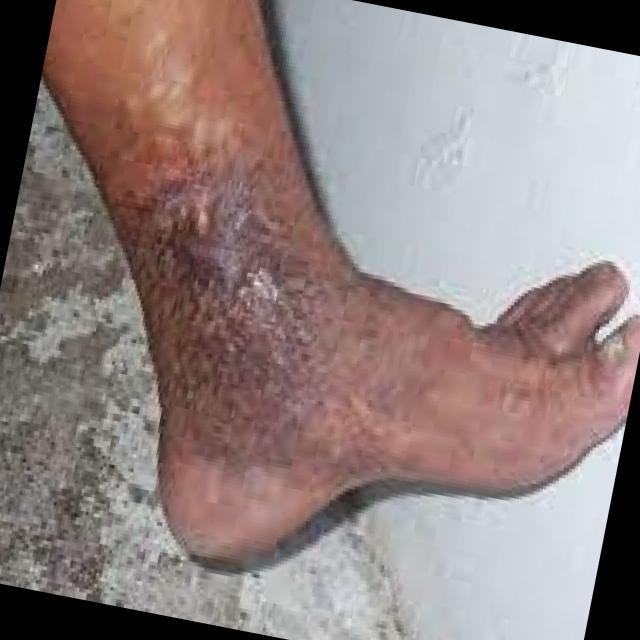Eczema: (120, 131, 380, 473)
